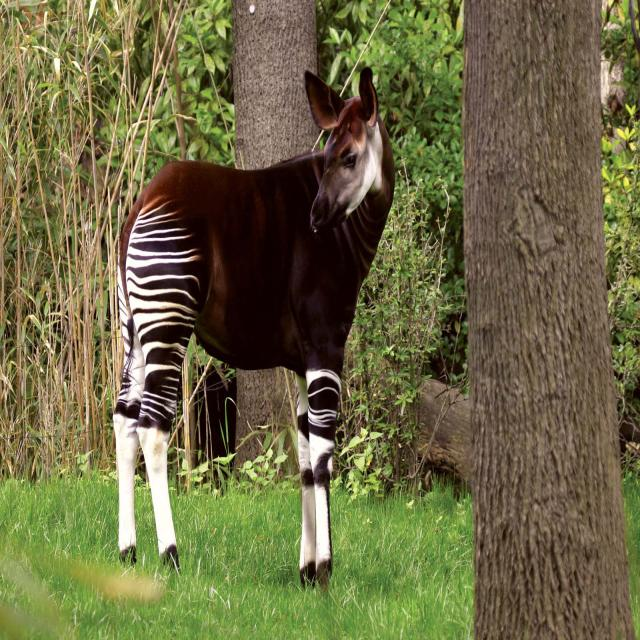Okapi: (107, 55, 399, 590)
